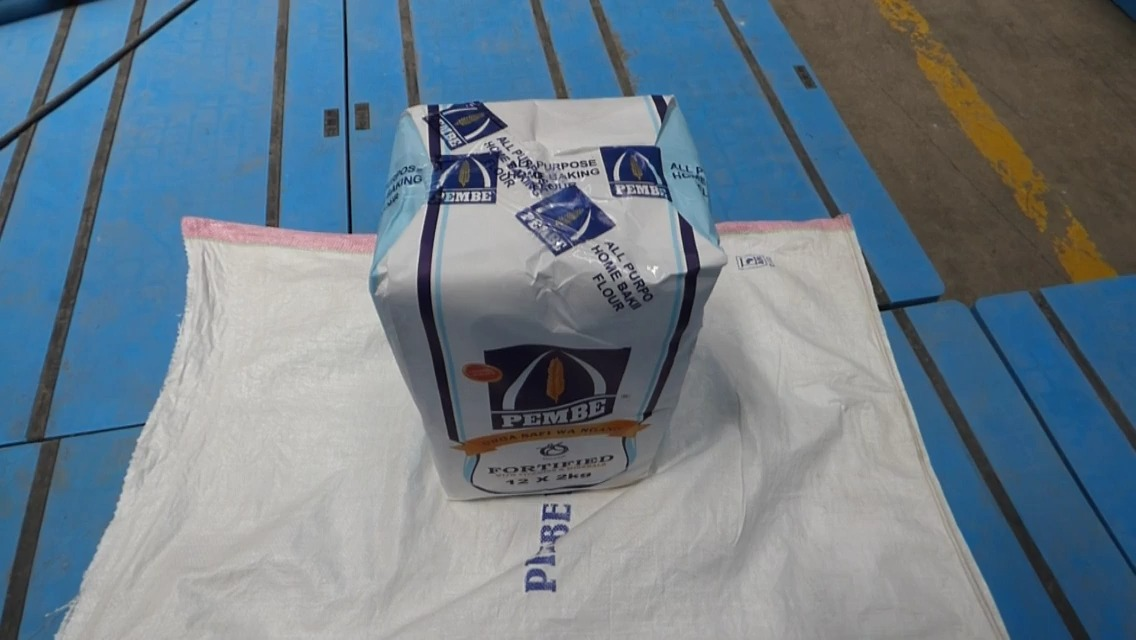wheat_flour_blue_label: (381, 93, 721, 498)
